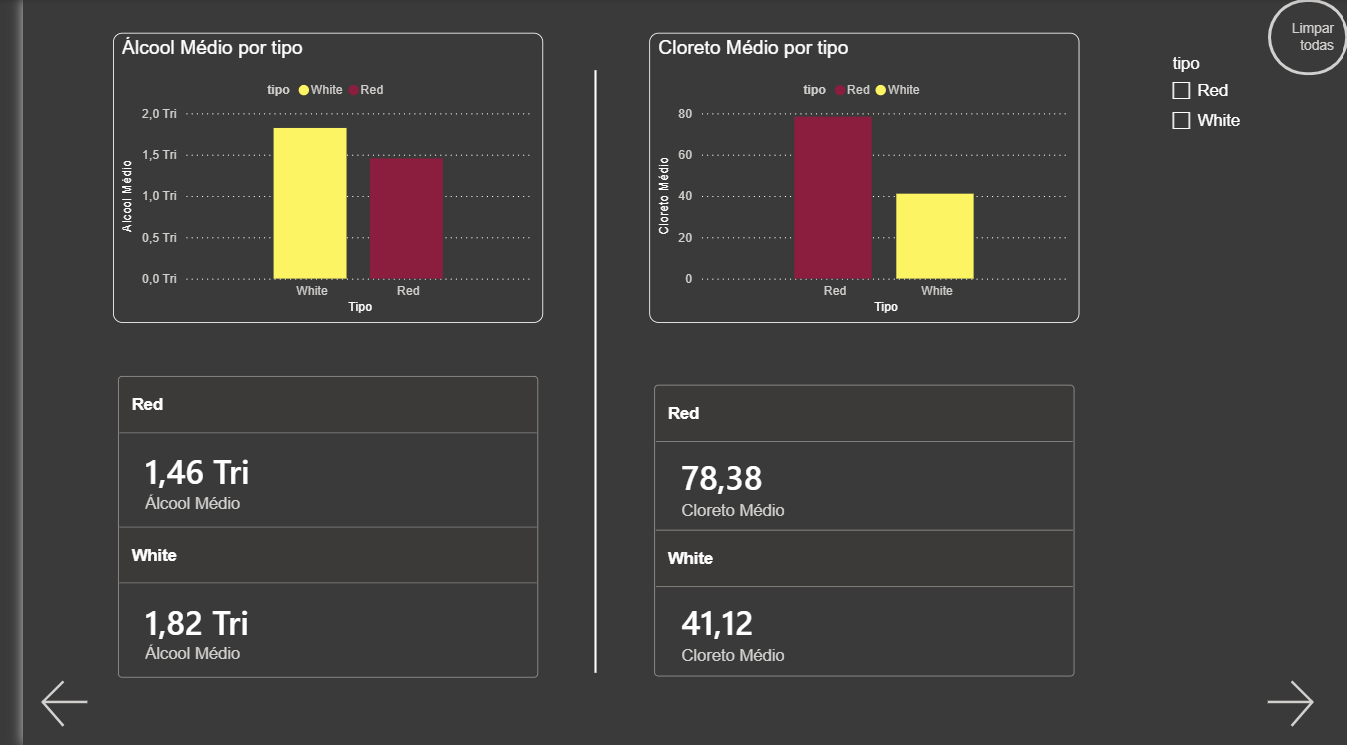

This screenshot's page, from the dashboard's own definition file:
{"tool":"powerbi","page":{"name":"Propriedades Químicas 1","canvas":[1280,720],"ordinal":1},"visuals":[{"type":"columnChart","title":"Álcool Médio por tipo","fields":{"Category":["winequality-total.type"],"Series":["winequality-total.type"],"Y":["winequality-total.Álcool Médio"]},"box":[86.9,32.6,415,279.9],"z":0},{"type":"columnChart","title":"Cloreto Médio por tipo","fields":{"Series":["winequality-total.type"],"Category":["winequality-total.type"],"Y":["winequality-total.Cloreto Médio"]},"box":[604.4,32.6,415,279.9],"z":1000},{"type":"actionButton","box":[1179.9,639.2,100.1,80.8],"z":2000},{"type":"actionButton","box":[0,639.4,100.1,80.8],"z":3000},{"type":"slicer","fields":{"Values":["winequality-total.type"]},"box":[1096.7,48.3,109.8,100.1],"z":4000},{"type":"cardVisual","fields":{"Data":["winequality-total.Álcool Médio"],"Rows":["winequality-total.type"]},"box":[86.9,339,415,341.4],"z":5000},{"type":"cardVisual","fields":{"Data":["winequality-total.Cloreto Médio"],"Rows":["winequality-total.type"]},"box":[604.4,347.5,415,333],"z":6000},{"type":"actionButton","box":[1201.6,0,78.4,73.6],"z":7000},{"type":"shape","box":[477.8,68.8,149.6,581.5],"z":8000}]}

Visuals, with their boxes in screenshot pixels (x1, y1, x2, y2), scaled from the page's 1280x720 canvas onto the 1347x745 screenshot:
"Álcool Médio por tipo" columnChart: (left=91, top=34, right=528, bottom=323)
"Cloreto Médio por tipo" columnChart: (left=636, top=34, right=1073, bottom=323)
actionButton: (left=1242, top=661, right=1346, bottom=744)
actionButton: (left=0, top=662, right=105, bottom=744)
slicer - winequality-total.type: (left=1154, top=50, right=1270, bottom=154)
cardVisual - winequality-total.Álcool Médio x winequality-total.type: (left=91, top=351, right=528, bottom=704)
cardVisual - winequality-total.Cloreto Médio x winequality-total.type: (left=636, top=360, right=1073, bottom=704)
actionButton: (left=1264, top=0, right=1346, bottom=76)
shape: (left=503, top=71, right=660, bottom=673)
